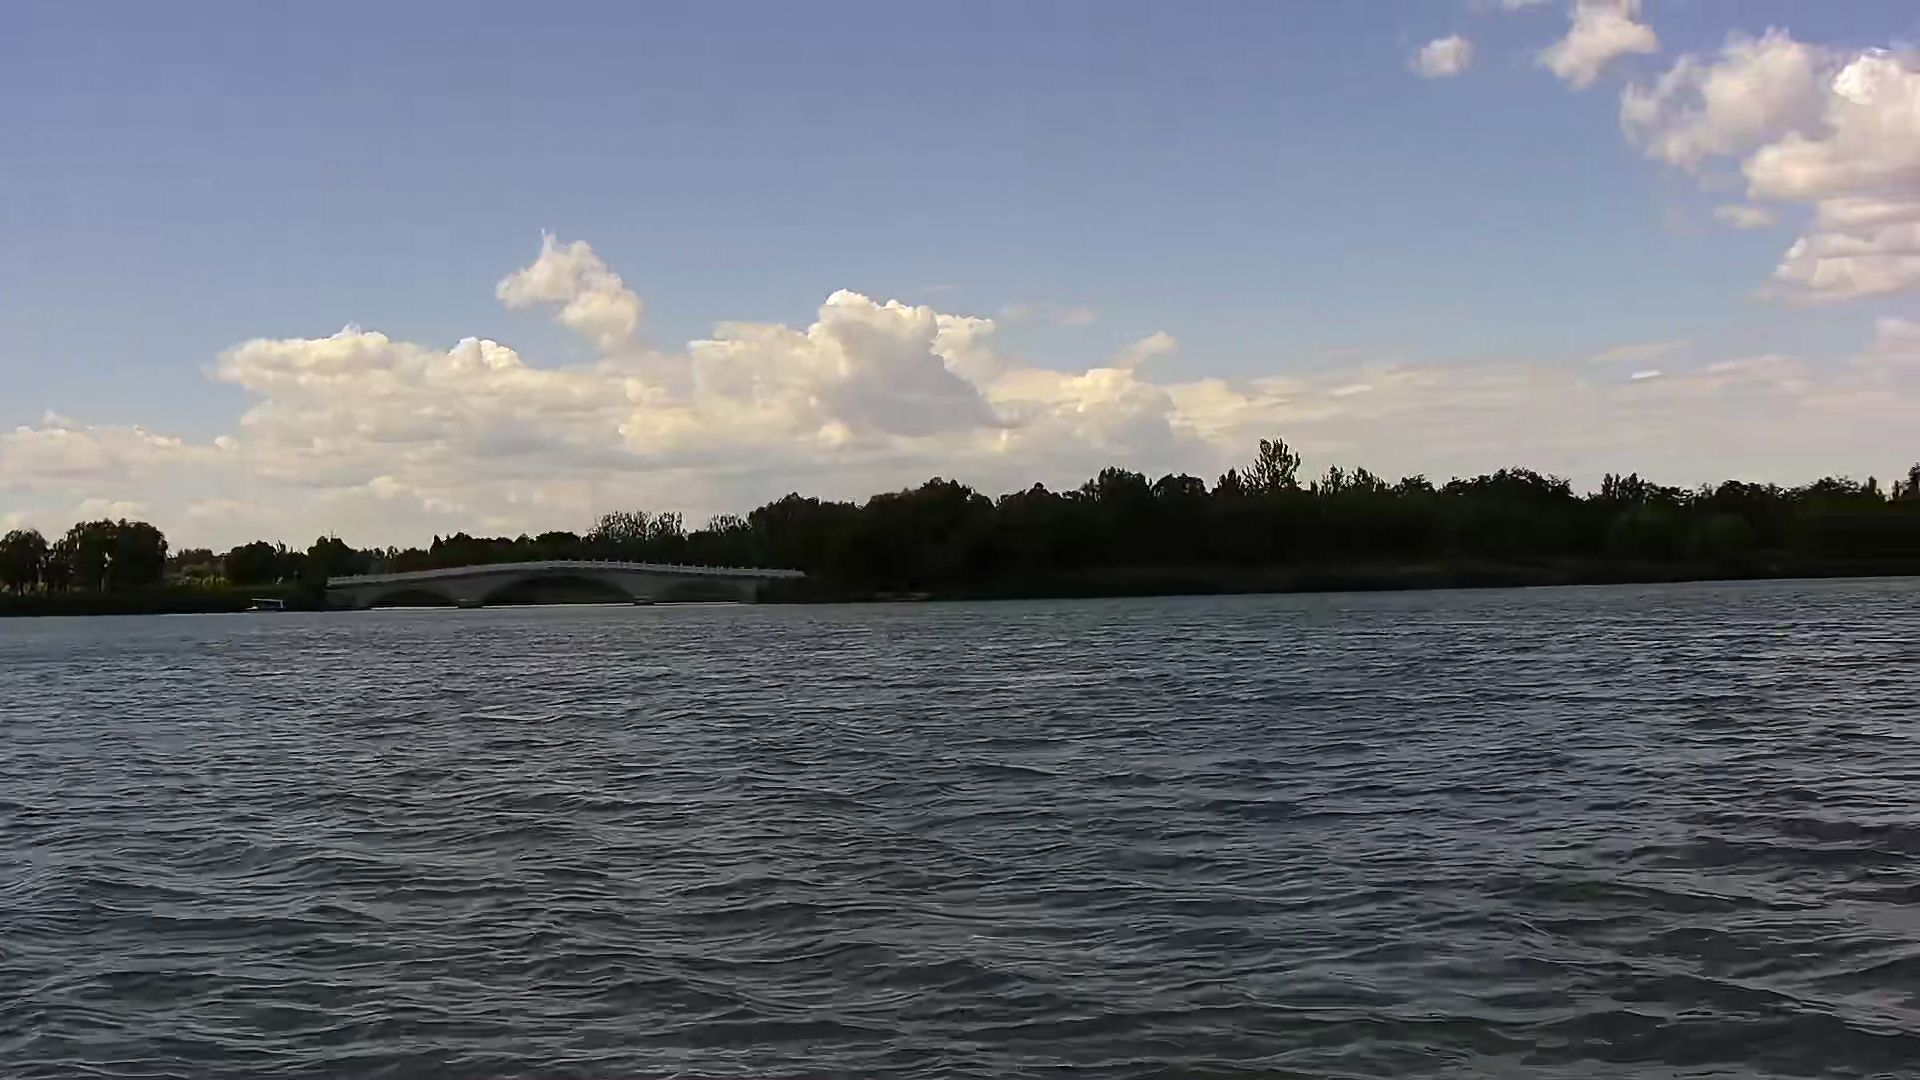bridge: (331, 553, 810, 611)
